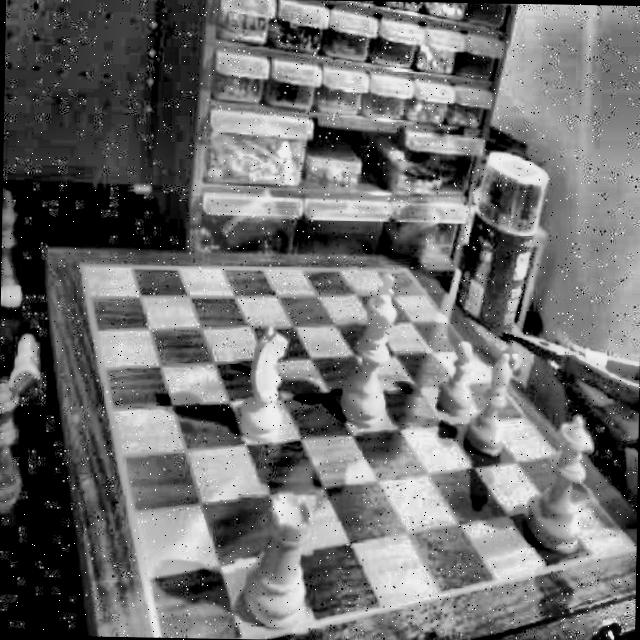white-bishop: (466, 350, 512, 460)
white-king: (342, 265, 400, 436)
white-knight: (231, 324, 289, 446)
white-pawn: (430, 339, 474, 414)
white-queen: (518, 406, 594, 566)
white-rook: (227, 483, 316, 632)
